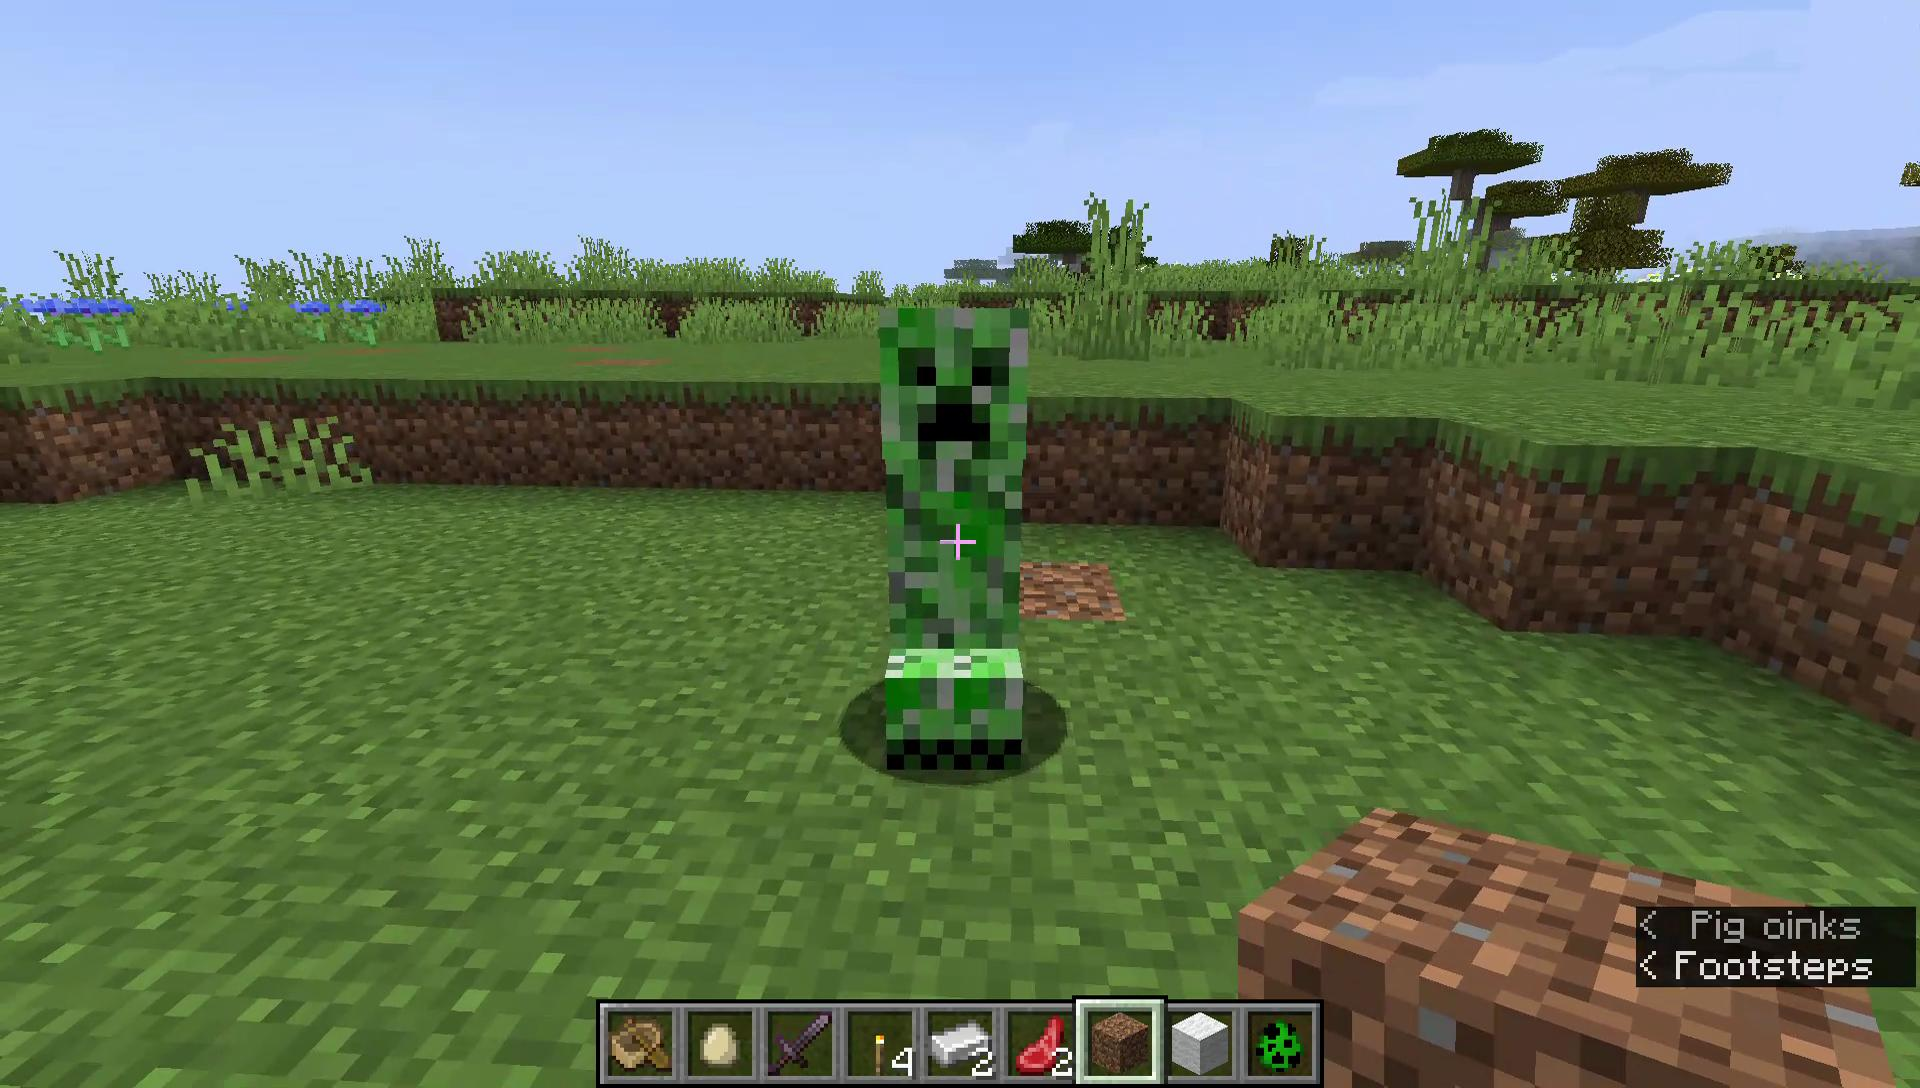creeper: (862, 294, 1035, 777)
